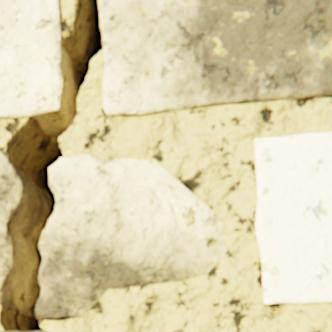brick: (98, 0, 331, 116), (254, 132, 331, 304), (0, 0, 62, 119)
broken_brick: (35, 154, 225, 318), (0, 153, 23, 304)
crack: (0, 0, 102, 331)
